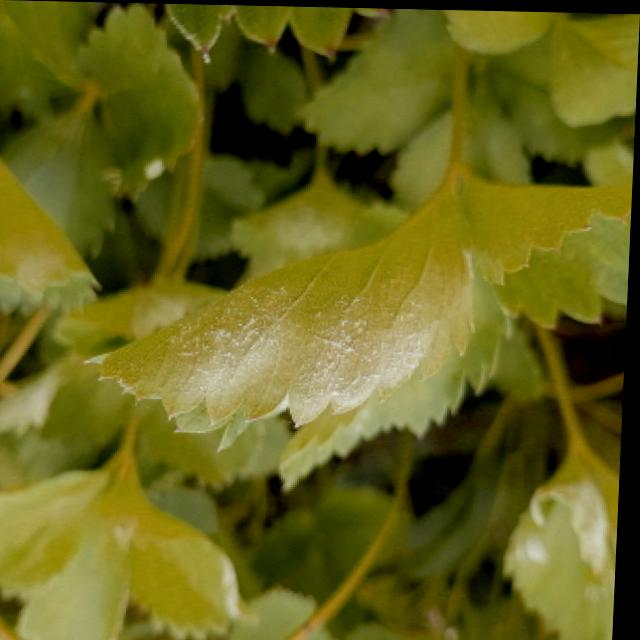Powdery Mildew Leaf: (83, 170, 480, 454), (510, 449, 621, 640)
